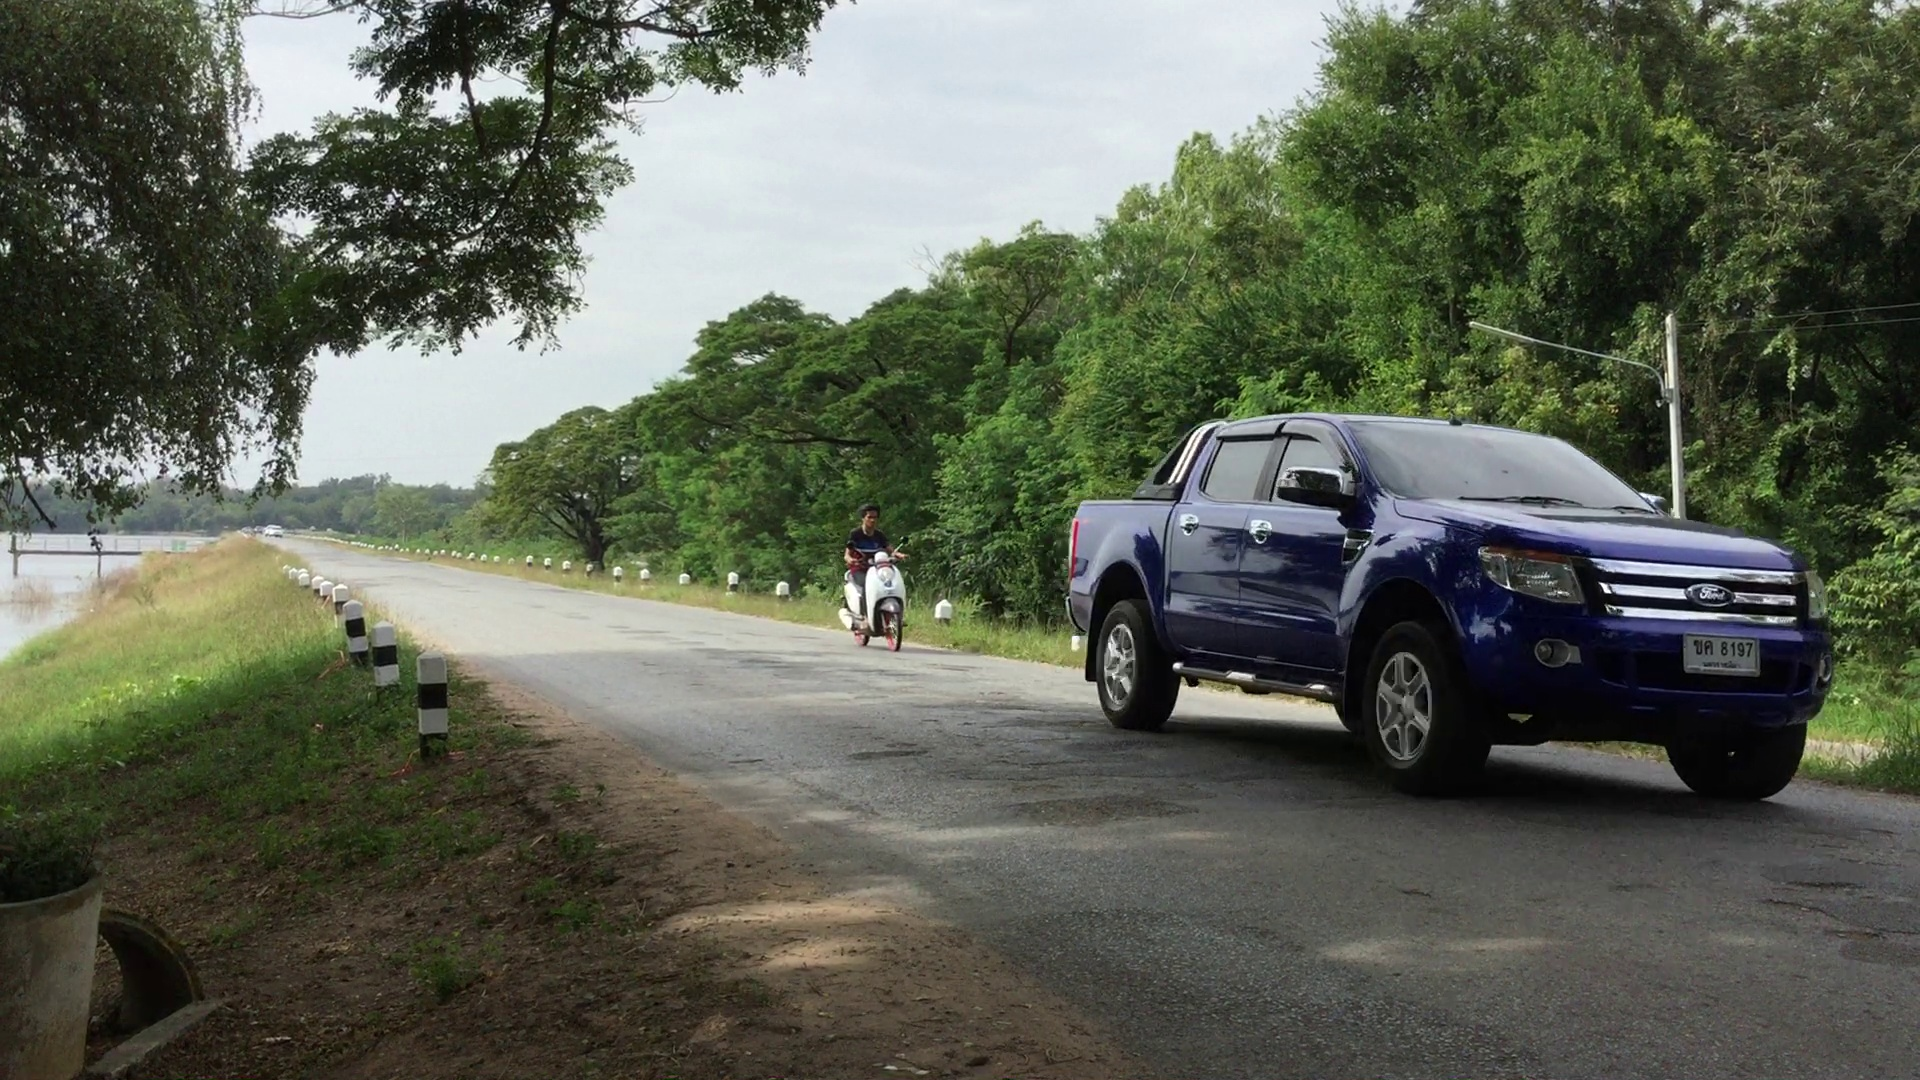car: (1075, 415, 1830, 794)
person: (843, 509, 910, 653)
